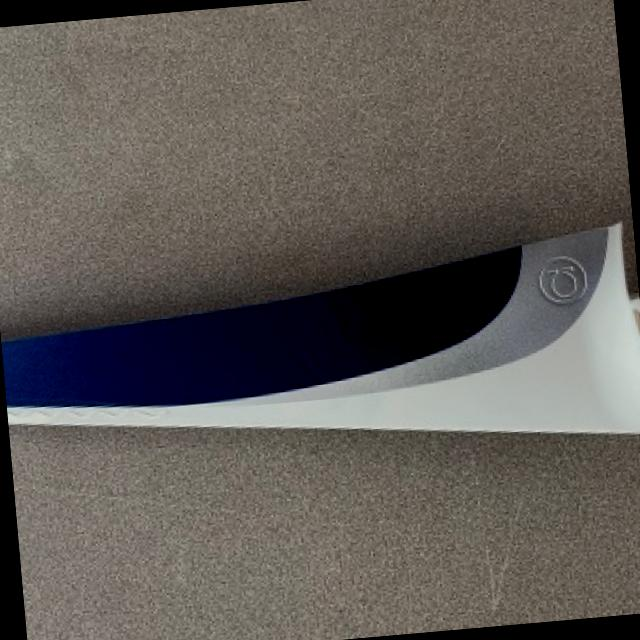healthy: (3, 221, 640, 430)
